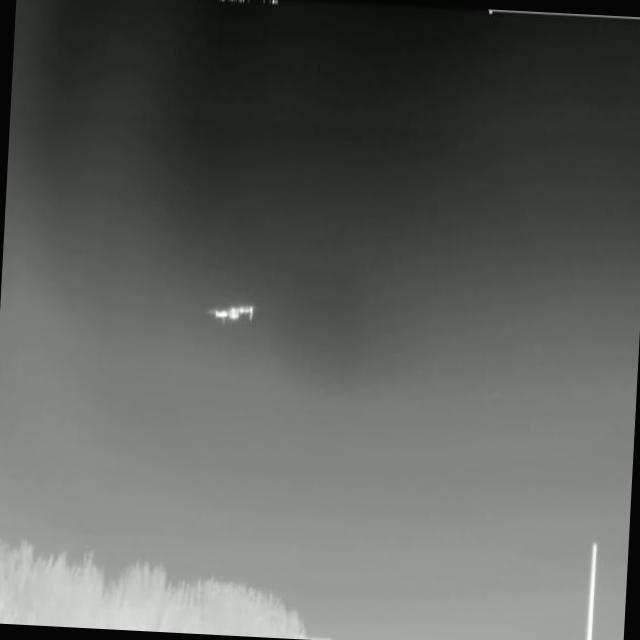DRONE: (202, 290, 261, 340)
